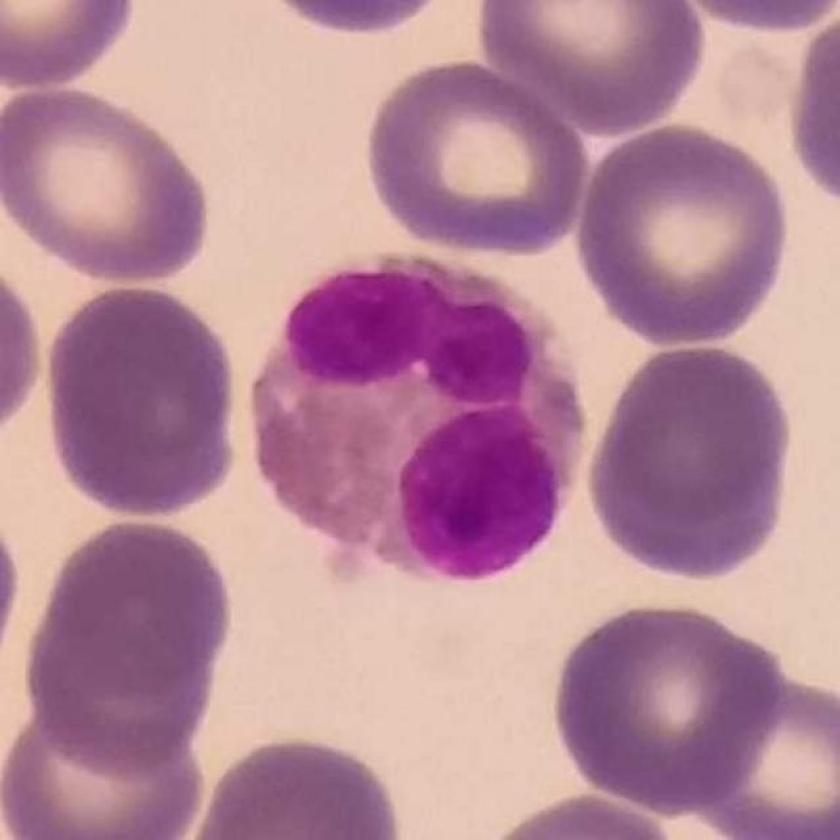eosinophil: (248, 247, 592, 591)
